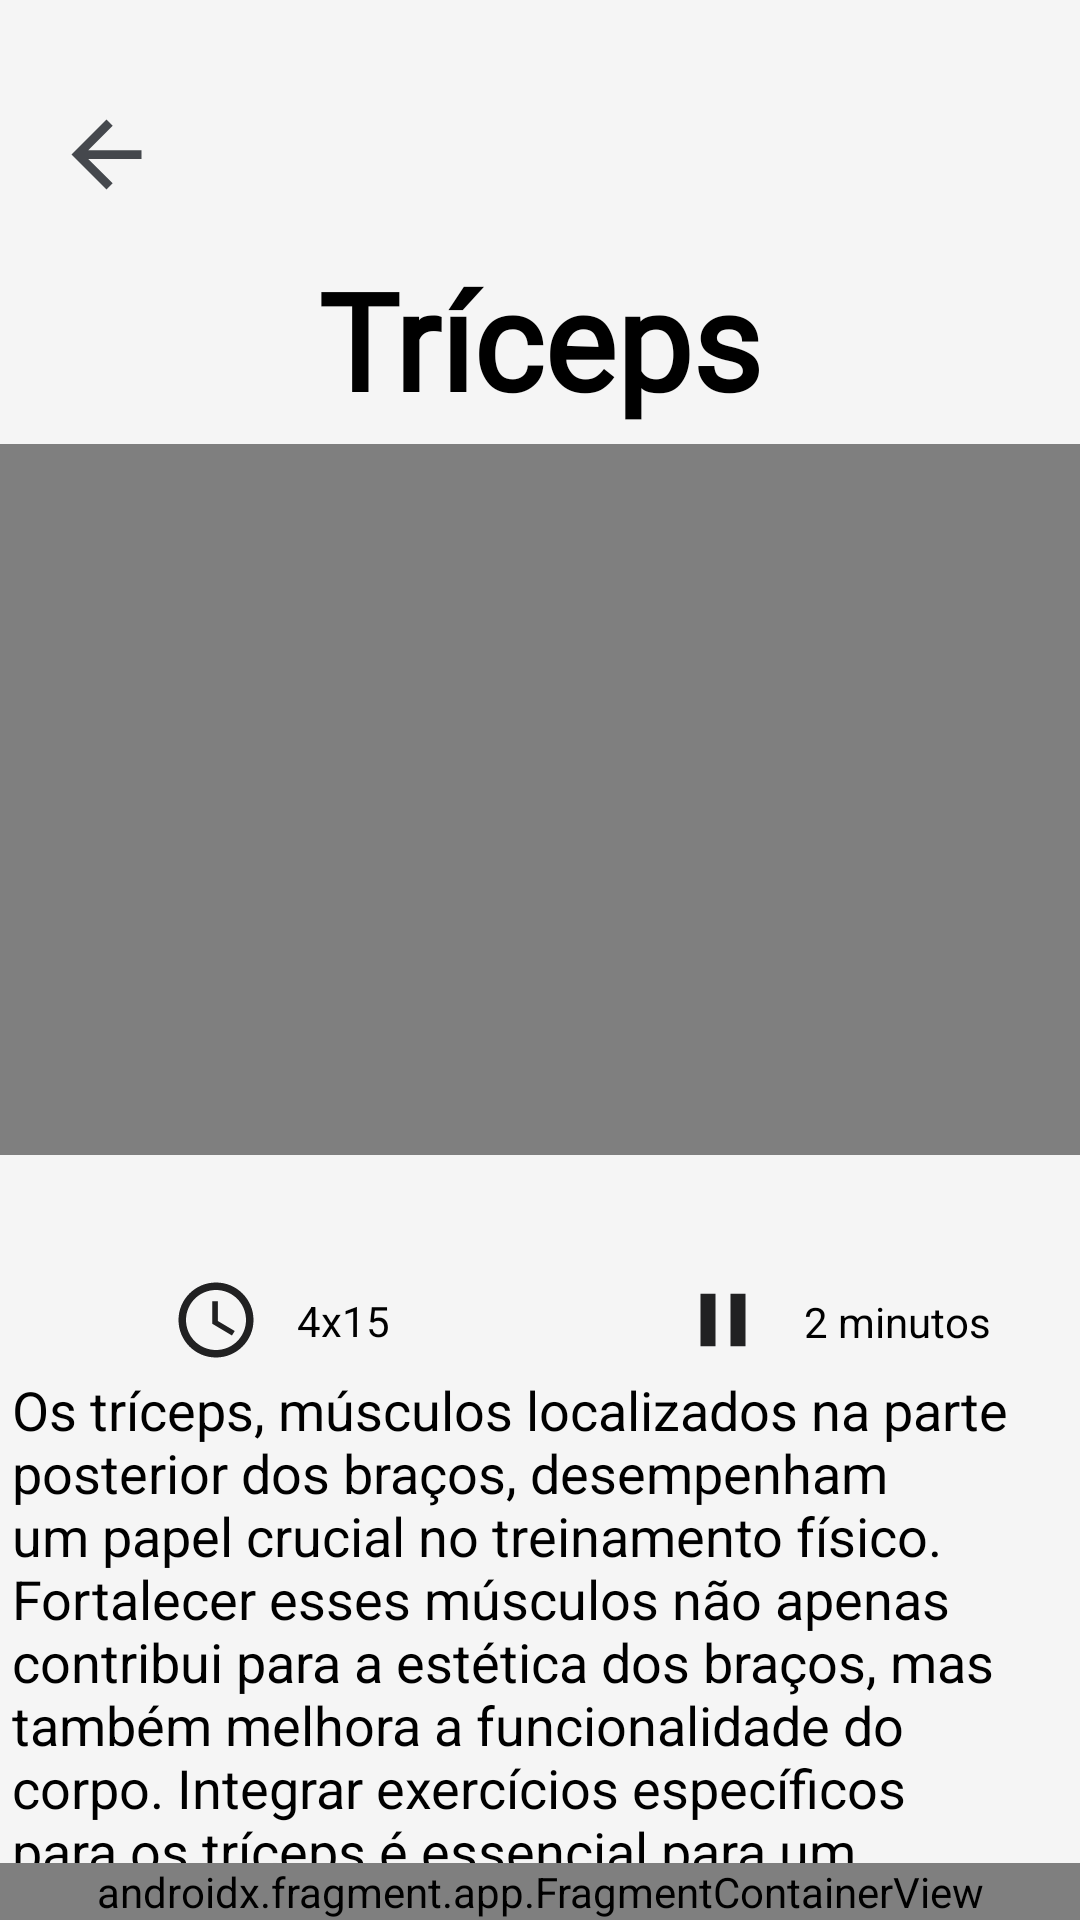

Named icons in this screenshot (1080px x 1920px) and their centers, (x=x, y=y):
access time: (x=216, y=1320)
arrow back: (x=106, y=154)
pause: (x=723, y=1320)
